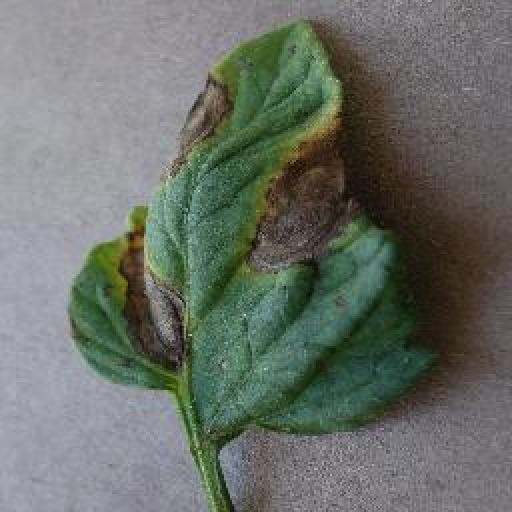disease_tomato: (68, 19, 436, 437)
